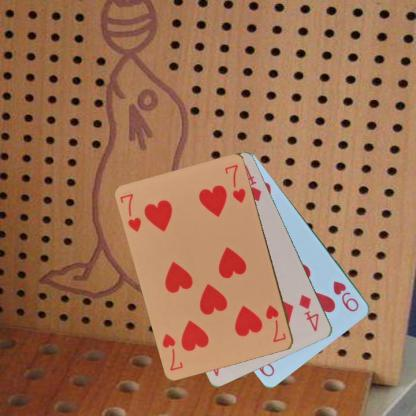4d: (296, 292, 321, 333)
7h: (118, 191, 143, 234), (263, 302, 288, 344)
9h: (330, 278, 360, 313)
